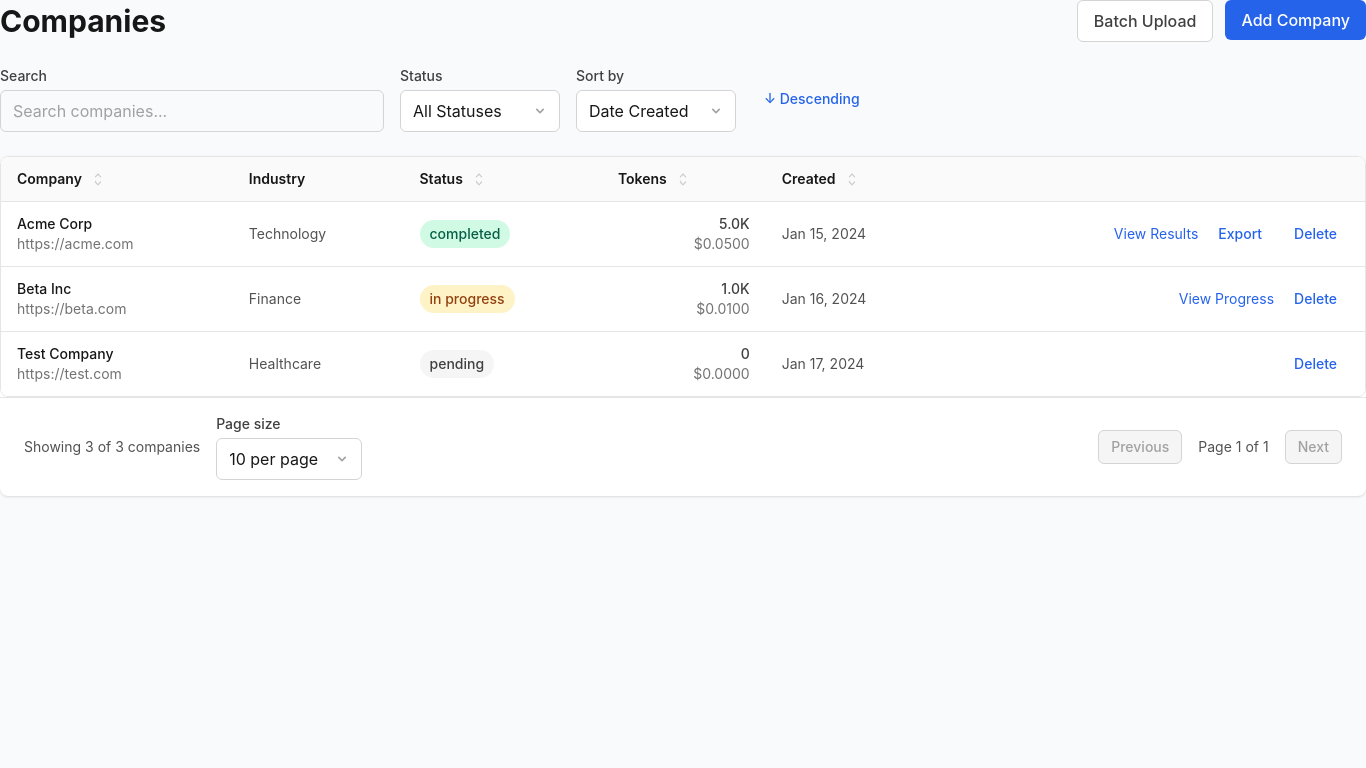
Test: TestDeleteAccessibility › close button in header closes modal
// Open delete modal
Step 1. Click the button "Delete" in the row of "View Results" → (1316, 234), box [1282, 218, 1349, 250]
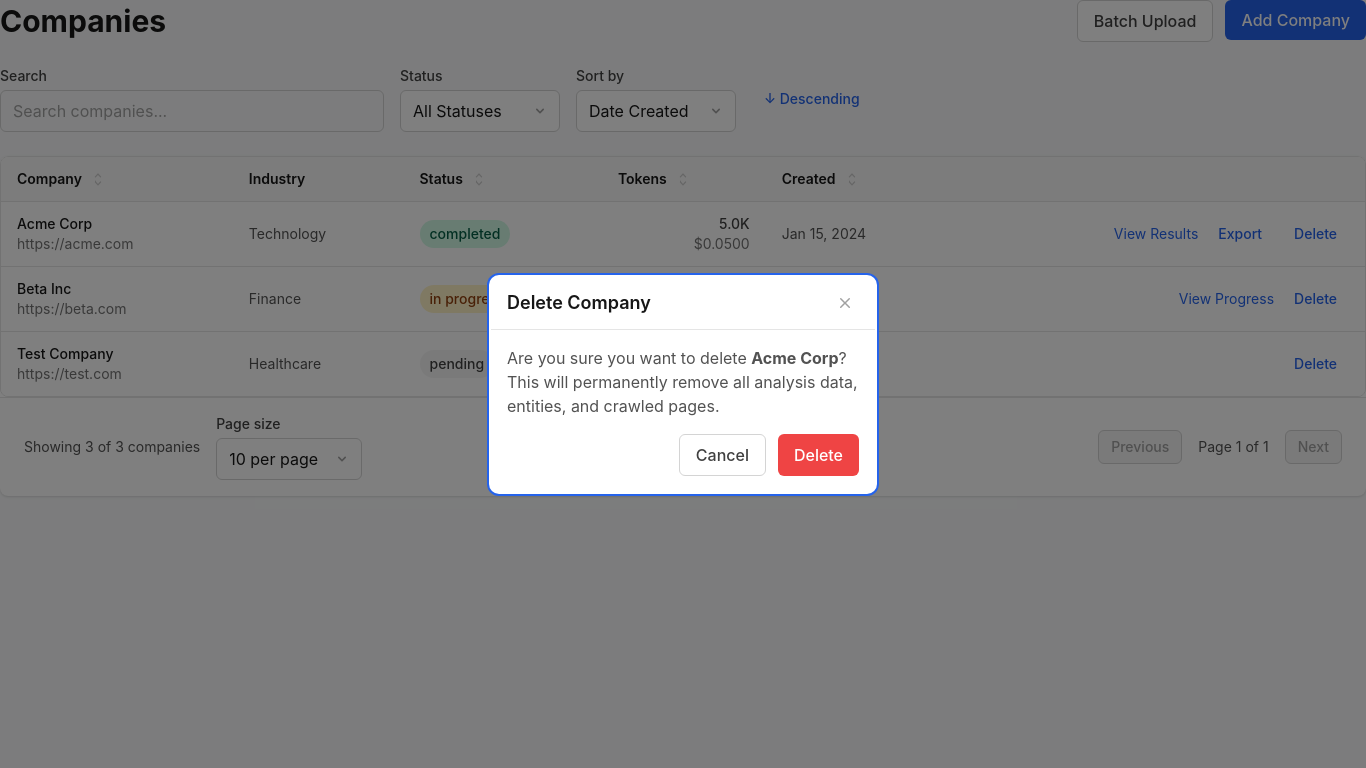
Expected: the dialog is shown, [491, 276, 875, 492]
// Click close button
Step 2. Click the button named "close" → (845, 302), box [831, 288, 859, 316]
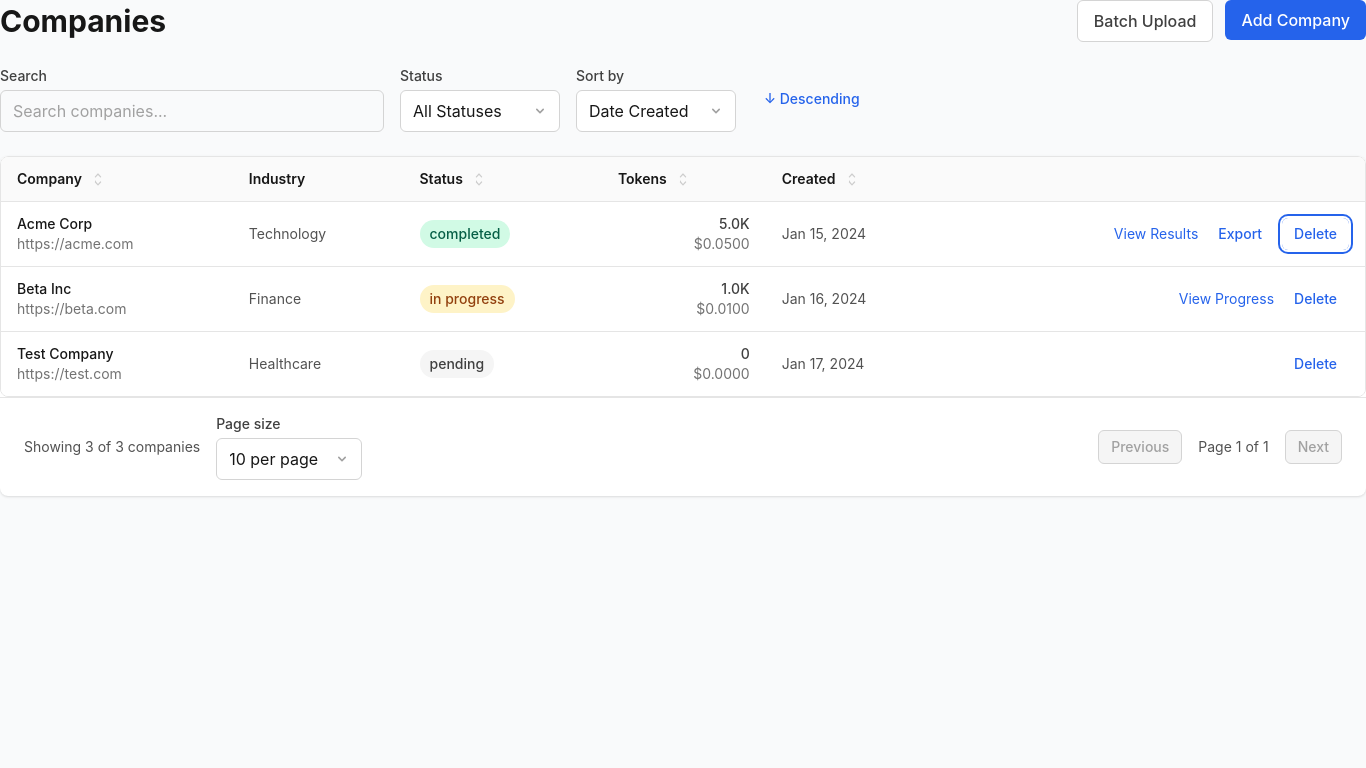
Expected: the dialog is gone
